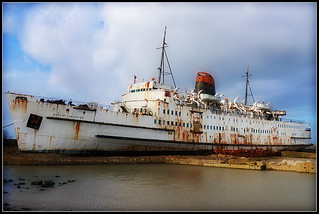rust: (213, 134, 270, 156), (173, 121, 202, 142), (70, 120, 83, 139), (12, 96, 27, 112)
